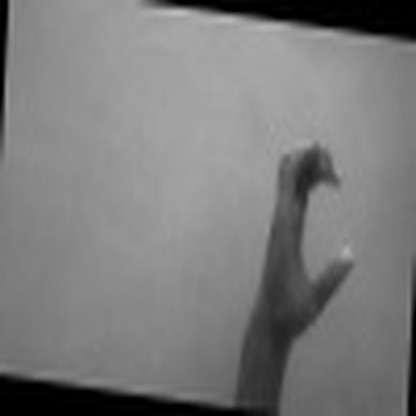c: (259, 128, 359, 331)
